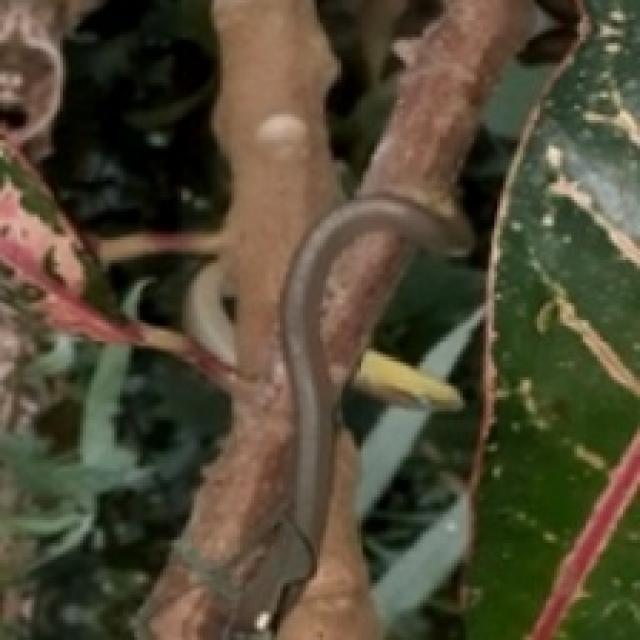red-tailed green ratsnake: (282, 196, 471, 549), (182, 260, 235, 366)
